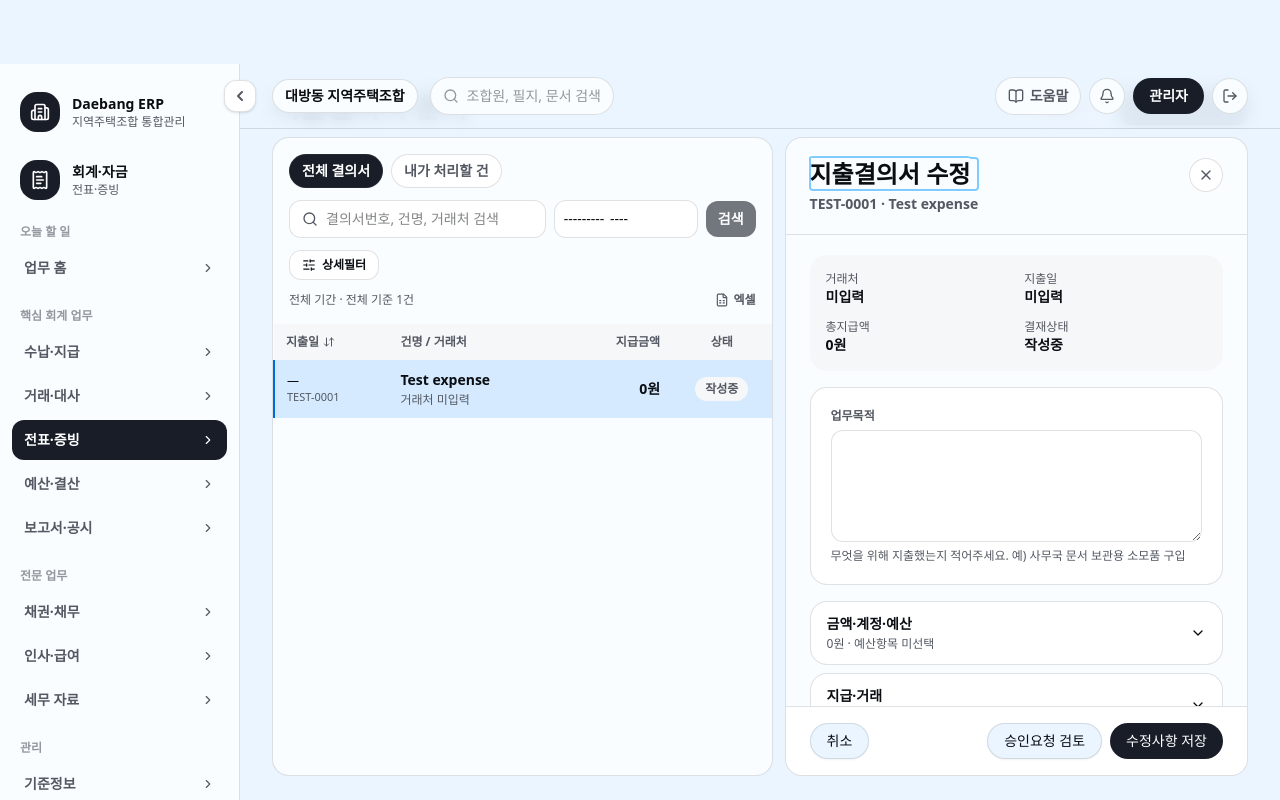
Test: ExpenseResolutionPage › waits for the original date in edit approval review and changes the approval box at the cutoff
Click the button "승인요청 검토": (1045, 741) x1=987 y1=723 x2=1102 y2=759
(page scrolled)
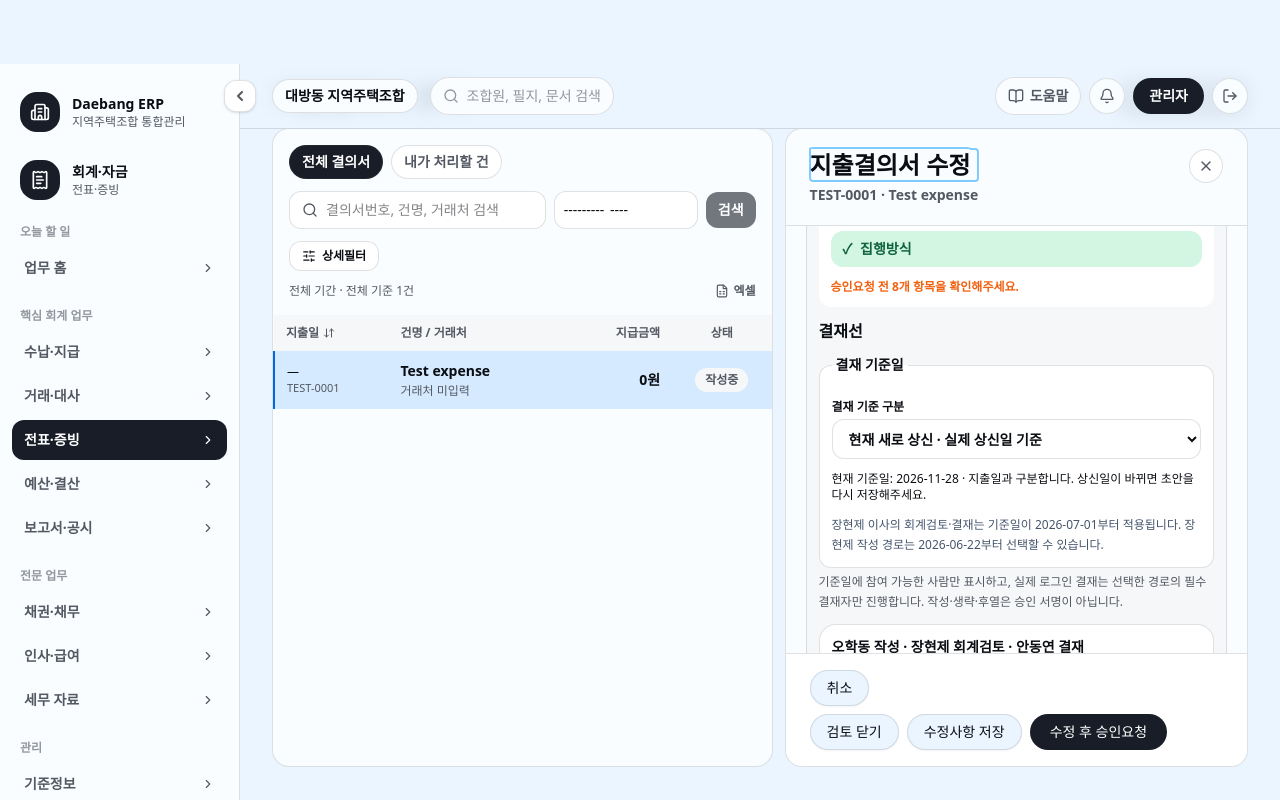
Select "과거 문서 복원 · 원문 결재일 기준" in the dropdown labelled "결재 기준 구분": (1016, 439) x1=832 y1=419 x2=1201 y2=459
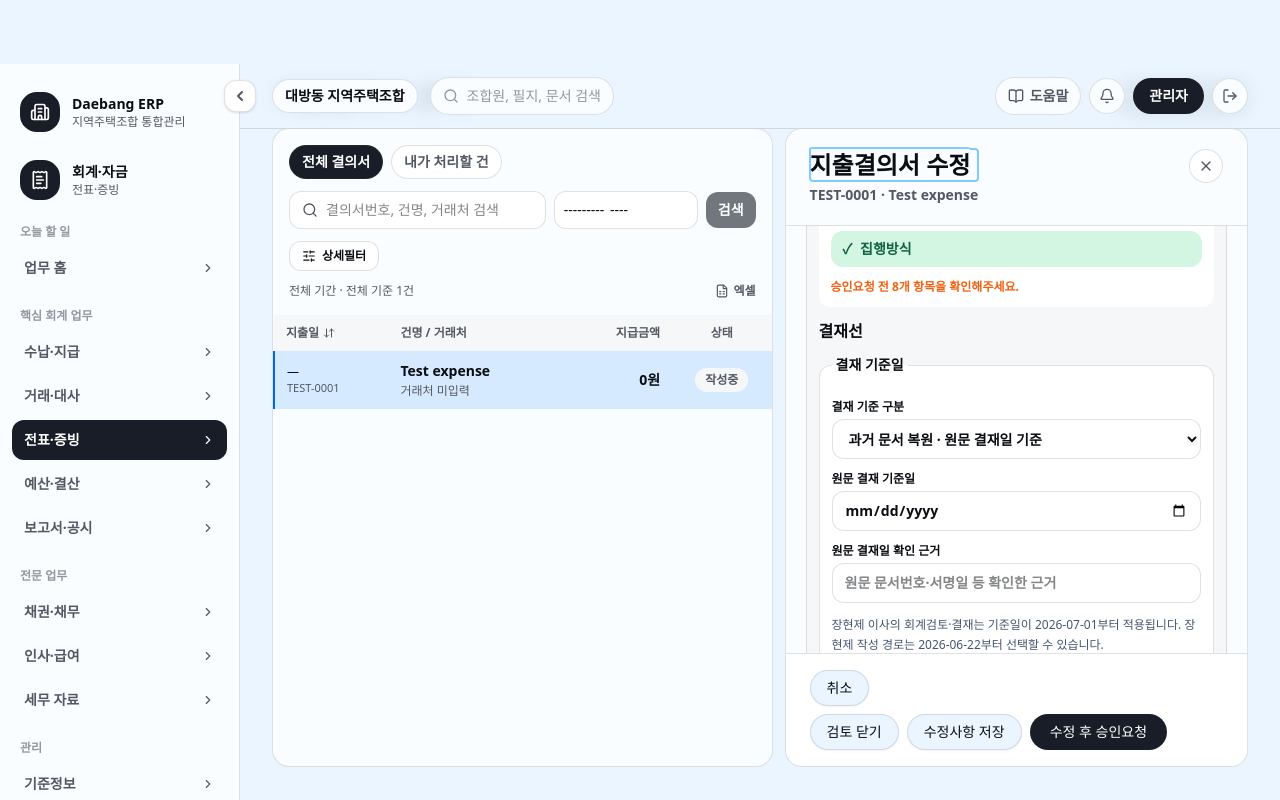
In the date field labelled "원문 결재 기준일": (1016, 511) x1=832 y1=491 x2=1201 y2=531, type "2026-06-30"
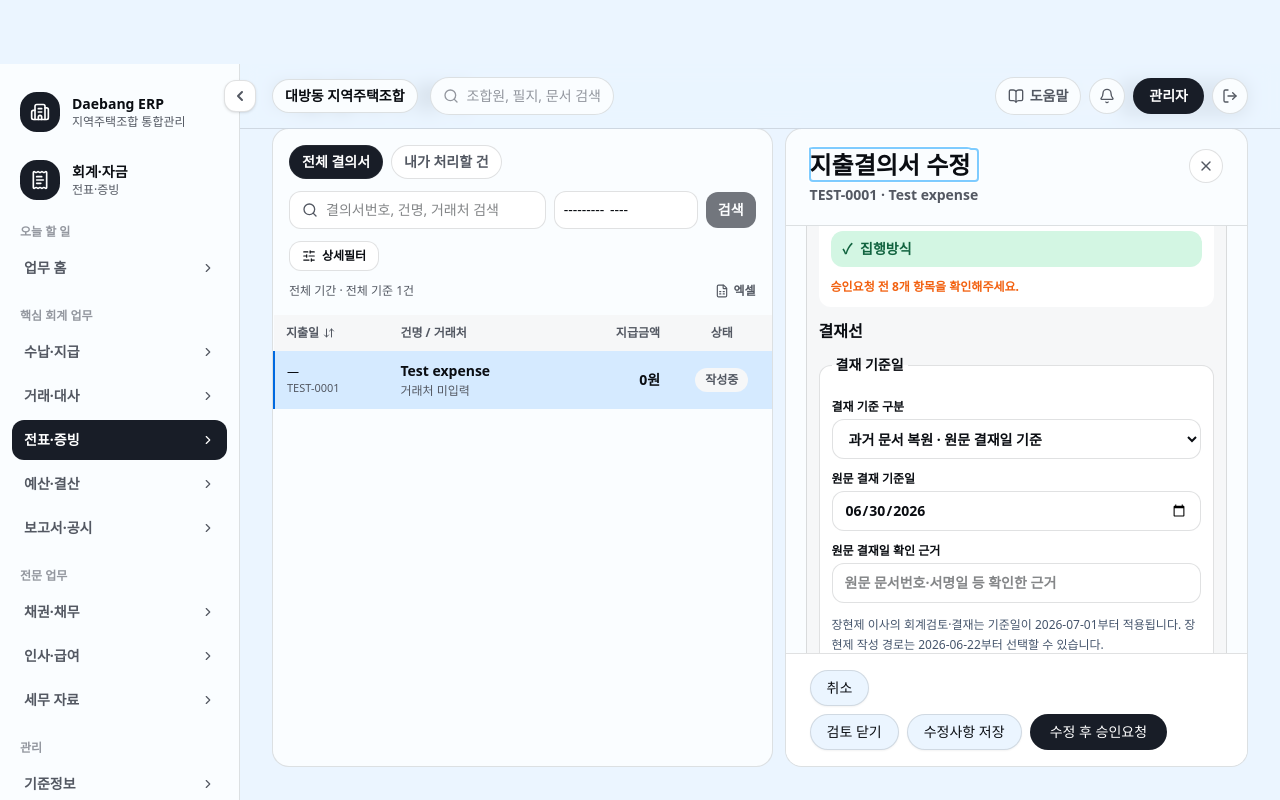
In the date field labelled "원문 결재 기준일": (1016, 511) x1=832 y1=491 x2=1201 y2=531, type "2026-07-01"
(page scrolled)
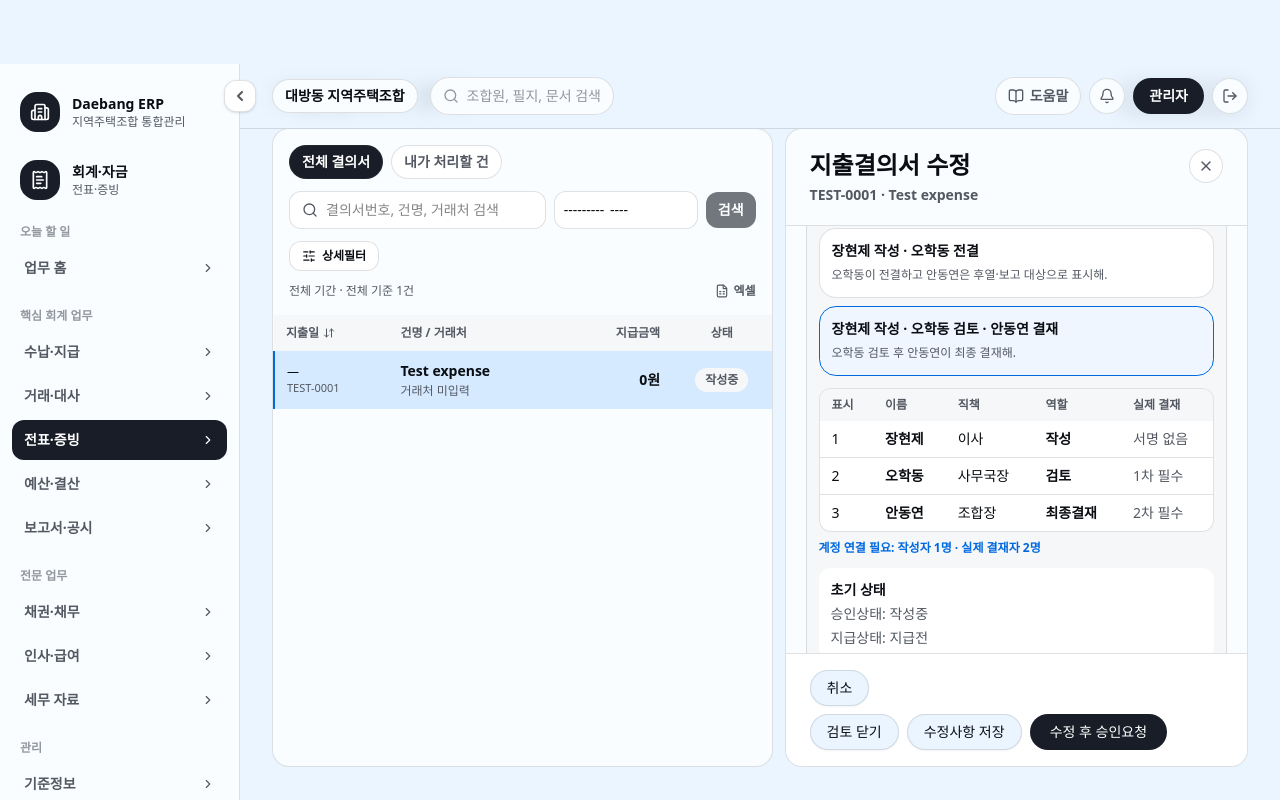
Now the text "장현제" is shown, box x1=873 y1=421 x2=946 y2=458
